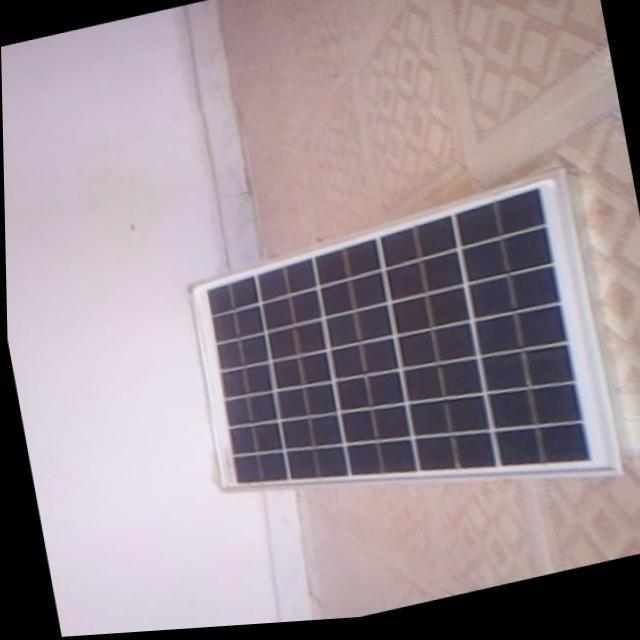Normal Solar Panel: (172, 176, 620, 568)
